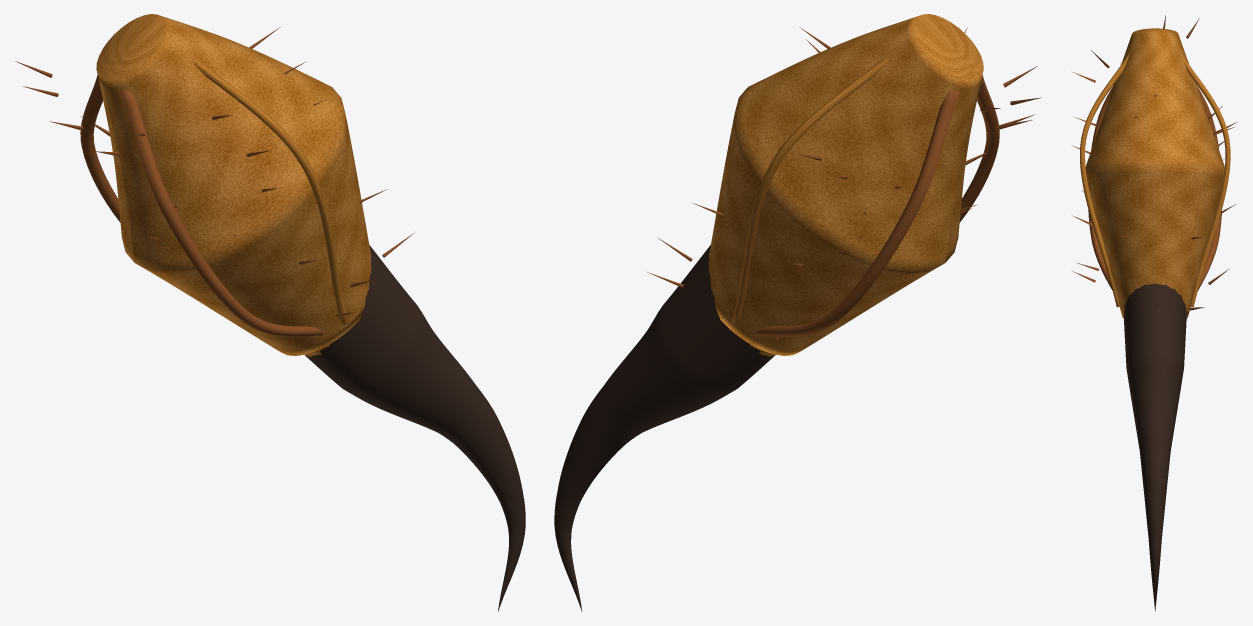
File: scorpion_stinger.glb
3 views of the same model, side by side, from view 1: azimuth 30°, elevation 25°; view 2: azimuth 150°, elevation 25°; view 3: azimuth 270°, elevation 25° (orthographic). The views are drawn at different scales.
Visible parts, largest first — view 1: Amber scorpion chitin, Burnished black brown venom barb, Dark amber shell sutures; view 2: Amber scorpion chitin, Burnished black brown venom barb, Dark amber shell sutures; view 3: Amber scorpion chitin, Burnished black brown venom barb, Dark amber shell sutures.
Boxes of the visible parts, <box> form: Amber scorpion chitin: <box>96,14,371,356</box>; Burnished black brown venom barb: <box>305,245,525,611</box>; Dark amber shell sutures: <box>15,27,414,336</box>; Amber scorpion chitin: <box>709,14,983,357</box>; Burnished black brown venom barb: <box>554,245,775,611</box>; Dark amber shell sutures: <box>646,27,1041,340</box>; Amber scorpion chitin: <box>1080,28,1230,318</box>; Burnished black brown venom barb: <box>1123,283,1186,611</box>; Dark amber shell sutures: <box>1072,15,1237,311</box>.
Bounding box in the file's own units: 0.1322 × 0.1729 × 0.0559.
3 materials, 1 textured.
